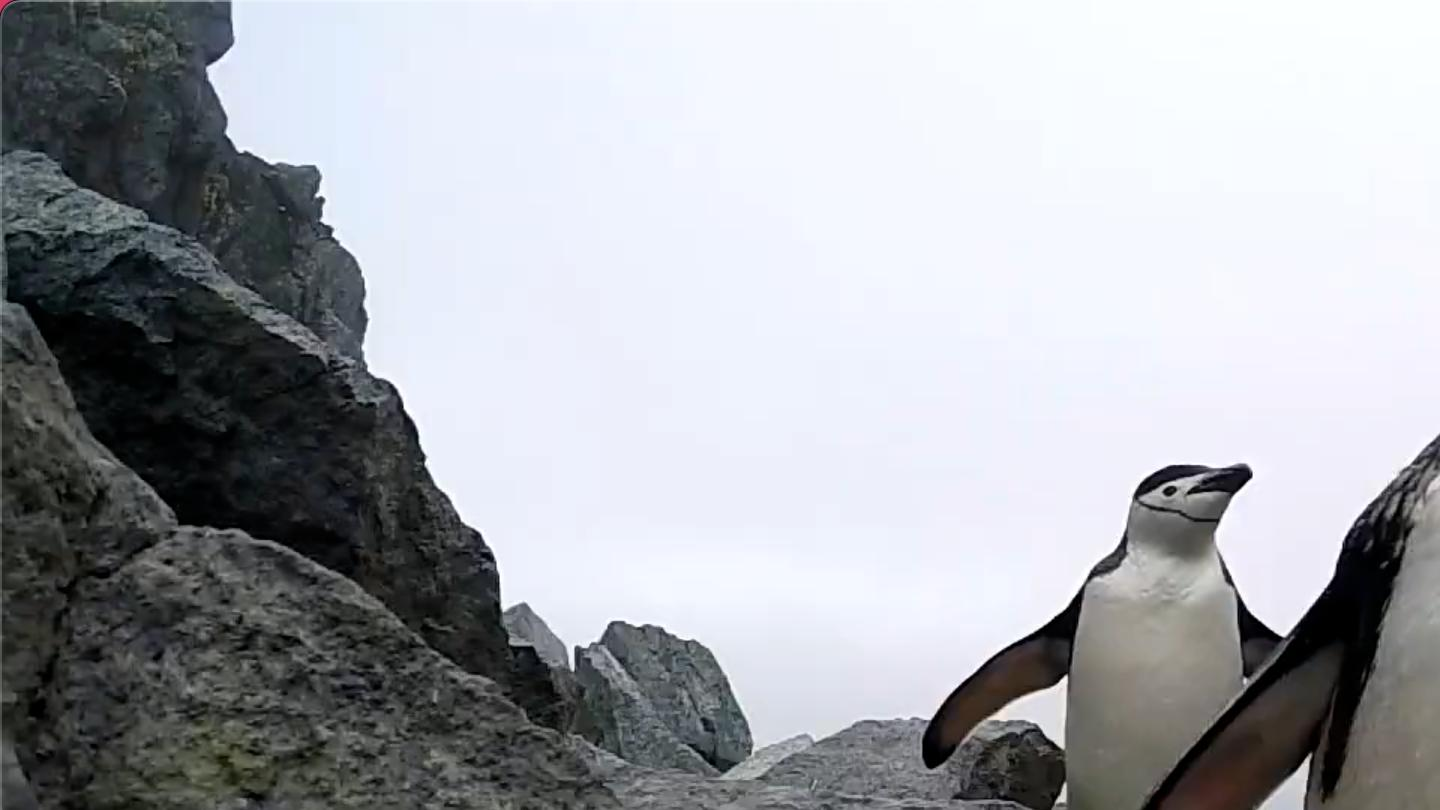Chinstrap Penguin: (1086, 65, 1440, 810), (909, 437, 1290, 649)
